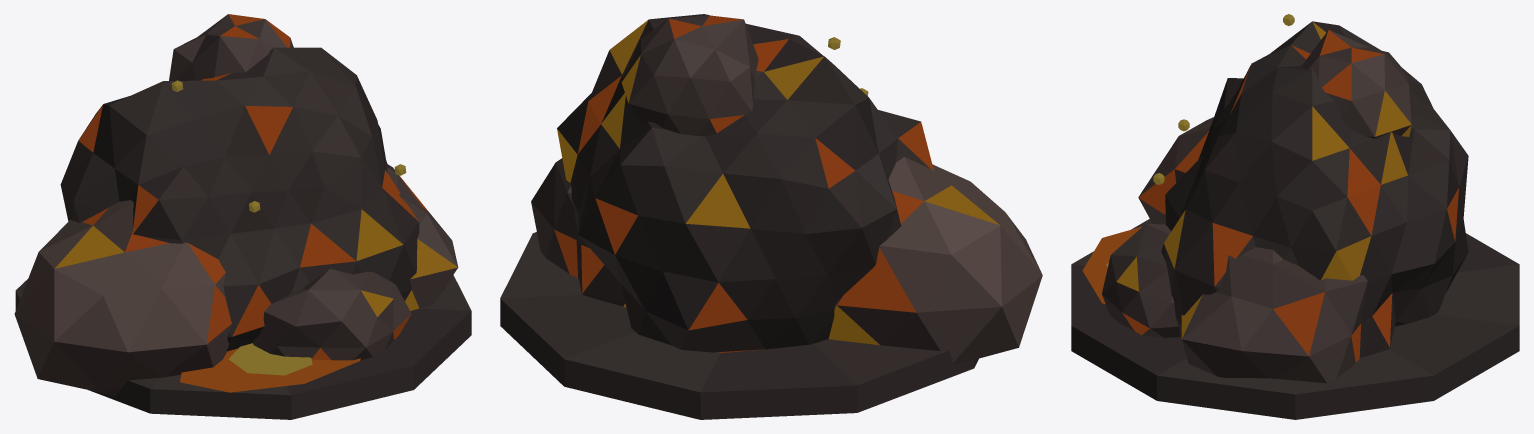
The model's file is lava-rock.glb.
3 renders of one model, left to right at view 1: azimuth 30°, elevation 25°; view 2: azimuth 150°, elevation 25°; view 3: azimuth 270°, elevation 25°, orthographic. The views are drawn at different scales.
Visible parts, largest first — view 1: lava-rock; view 2: lava-rock; view 3: lava-rock.
Boxes of the visible parts, x1=… form: lava-rock: x1=14, y1=14, x2=471, y2=419; lava-rock: x1=500, y1=14, x2=1042, y2=419; lava-rock: x1=1071, y1=14, x2=1519, y2=419.
Bounding box in the file's own units: 8.99 × 5.75 × 7.99.
Materials: 2 (2 with a texture image).
